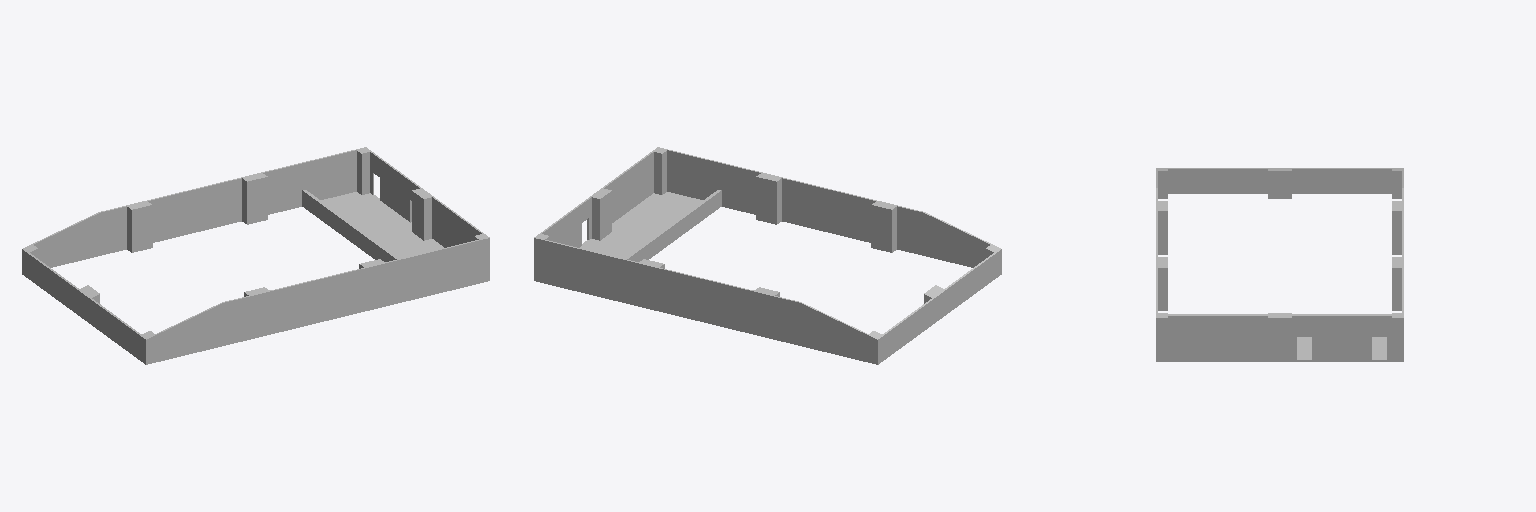
Rendered from Hall2.obj.
3 renders of one model, left to right at view 1: azimuth 30°, elevation 25°; view 2: azimuth 150°, elevation 25°; view 3: azimuth 270°, elevation 25°, orthographic.
Visible parts, largest first — view 1: Hall2; view 2: Hall2; view 3: Hall2.
Boxes of the visible parts, <box> form: Hall2: <box>22,147,489,364</box>; Hall2: <box>534,147,1001,364</box>; Hall2: <box>1156,168,1403,361</box>.
Bounding box in the file's own units: 40 × 4.8 × 25.